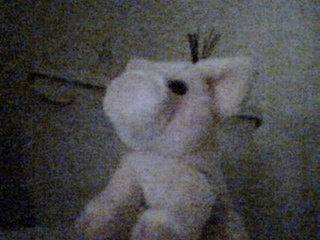piggy: (74, 54, 255, 240)
